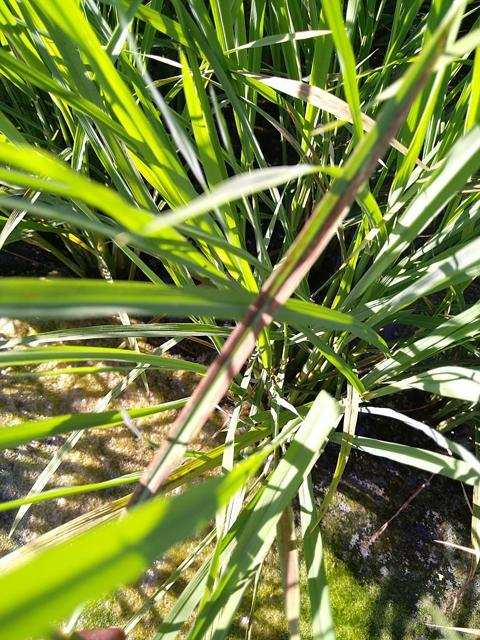Leaf Streak: (142, 70, 428, 497), (241, 73, 353, 123)
